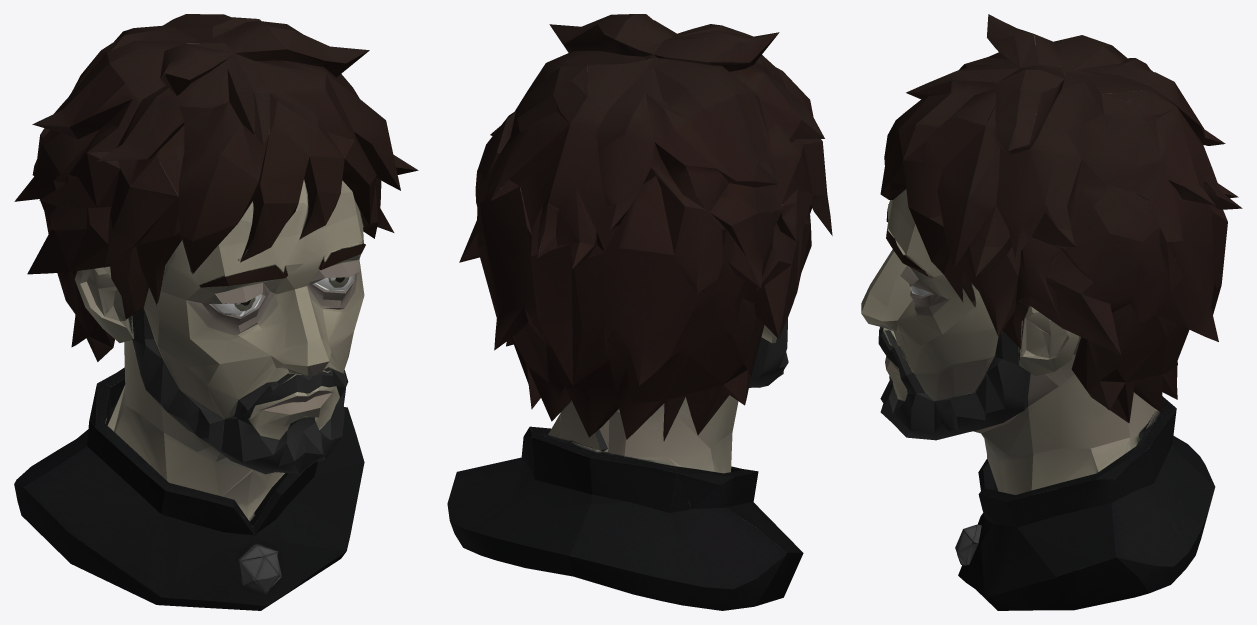
Rendered from DMHeadTired.glb.
The picture shows the model from 3 angles, left to right: view 1: azimuth 30°, elevation 25°; view 2: azimuth 150°, elevation 25°; view 3: azimuth 270°, elevation 25°; orthographic projection. The views are drawn at different scales.
Size of the model in its own units: 1.16 by 1.9 by 1.24.
1 material, 1 textured.
